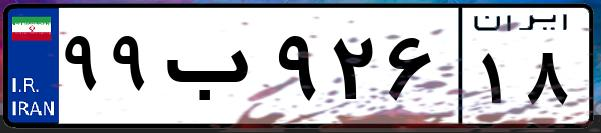1: (475, 38, 525, 113)
2: (330, 28, 385, 110)
6: (385, 28, 445, 110)
8: (525, 38, 570, 115)
9: (270, 28, 330, 110), (57, 26, 110, 100), (110, 28, 158, 98)
ب: (158, 20, 270, 120)
